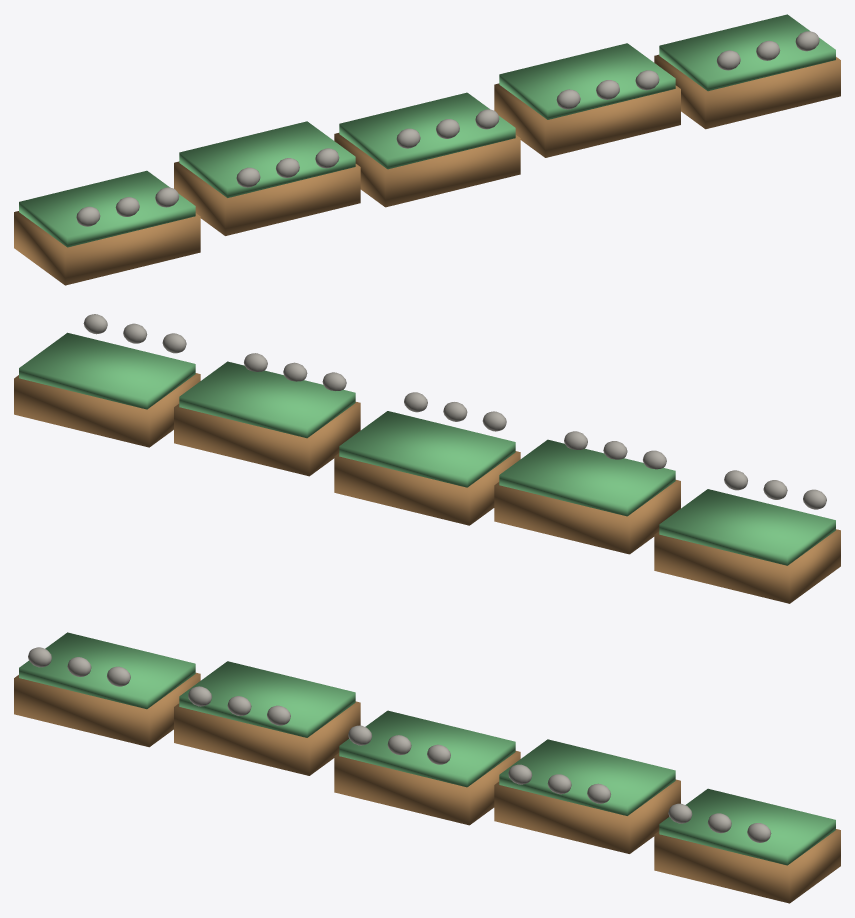
Rendered from kurczoker-terrain-kit.glb.
3 renders of one model, top to bottom at view 1: azimuth 30°, elevation 25°; view 2: azimuth 150°, elevation 25°; view 3: azimuth 330°, elevation 25°, orthographic.
Parts seen in each view (by area): view 1: moss_platform_0, moss_platform_3, moss_platform_1, moss_top_2, moss_top_1, moss_top_4, moss_top_3, moss_top_0, moss_platform_2, moss_platform_4; view 2: moss_top_4, moss_top_0, moss_top_2, moss_top_1, moss_top_3, moss_platform_0, moss_platform_1, moss_platform_3, moss_platform_2, moss_platform_4; view 3: moss_platform_4, moss_top_4, moss_top_2, moss_top_0, moss_platform_3, moss_platform_1, moss_top_3, moss_top_1, moss_platform_2, moss_platform_0.
Boxes of the visible parts, left/top/right/bottom form: moss_platform_0: left=14, top=211, right=200, bottom=285; moss_platform_3: left=494, top=83, right=680, bottom=157; moss_platform_1: left=174, top=161, right=360, bottom=235; moss_top_2: left=339, top=92, right=515, bottom=169; moss_top_1: left=179, top=121, right=355, bottom=197; moss_top_4: left=659, top=14, right=835, bottom=91; moss_top_3: left=499, top=43, right=675, bottom=119; moss_top_0: left=19, top=170, right=195, bottom=247; moss_platform_2: left=334, top=133, right=520, bottom=207; moss_platform_4: left=654, top=54, right=840, bottom=129; moss_top_4: left=19, top=332, right=195, bottom=409; moss_top_0: left=659, top=489, right=835, bottom=565; moss_top_2: left=339, top=411, right=515, bottom=487; moss_top_1: left=499, top=439, right=675, bottom=516; moss_top_3: left=179, top=361, right=355, bottom=438; moss_platform_0: left=654, top=529, right=840, bottom=603; moss_platform_1: left=494, top=480, right=680, bottom=554; moss_platform_3: left=174, top=402, right=360, bottom=476; moss_platform_2: left=334, top=451, right=520, bottom=525; moss_platform_4: left=14, top=373, right=200, bottom=447; moss_platform_4: left=654, top=829, right=840, bottom=903; moss_top_4: left=659, top=788, right=835, bottom=865; moss_top_2: left=339, top=710, right=515, bottom=787; moss_top_0: left=19, top=632, right=195, bottom=709; moss_platform_3: left=494, top=779, right=680, bottom=853; moss_platform_1: left=174, top=701, right=360, bottom=775; moss_top_3: left=499, top=739, right=675, bottom=815; moss_top_1: left=179, top=661, right=355, bottom=737; moss_platform_2: left=334, top=751, right=520, bottom=825; moss_platform_0: left=14, top=672, right=200, bottom=747.
Bounding box in the file's own units: 6.3 × 0.55 × 0.77.
